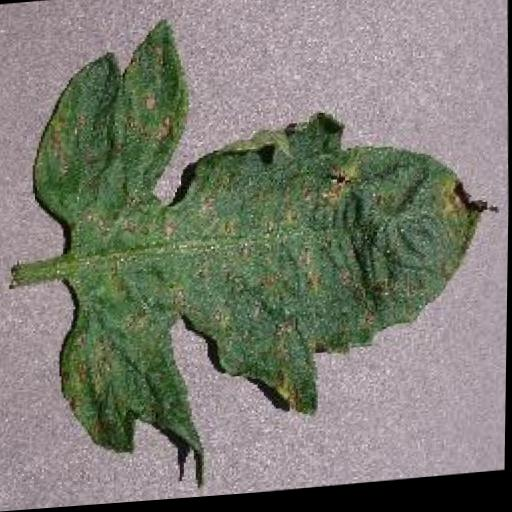Septoria: (26, 0, 497, 502)
